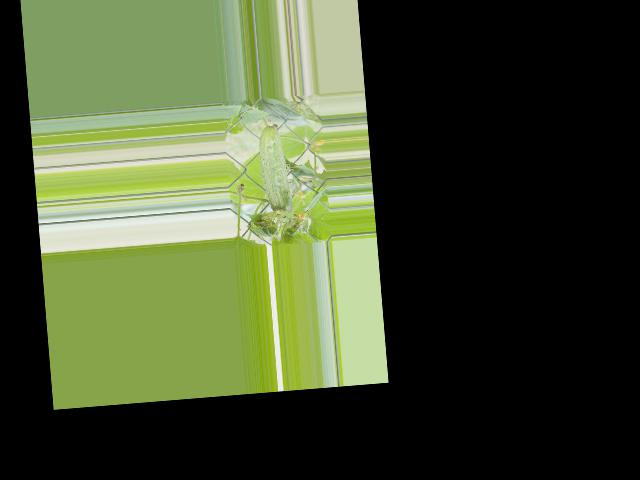cucumber: (256, 119, 292, 219)
